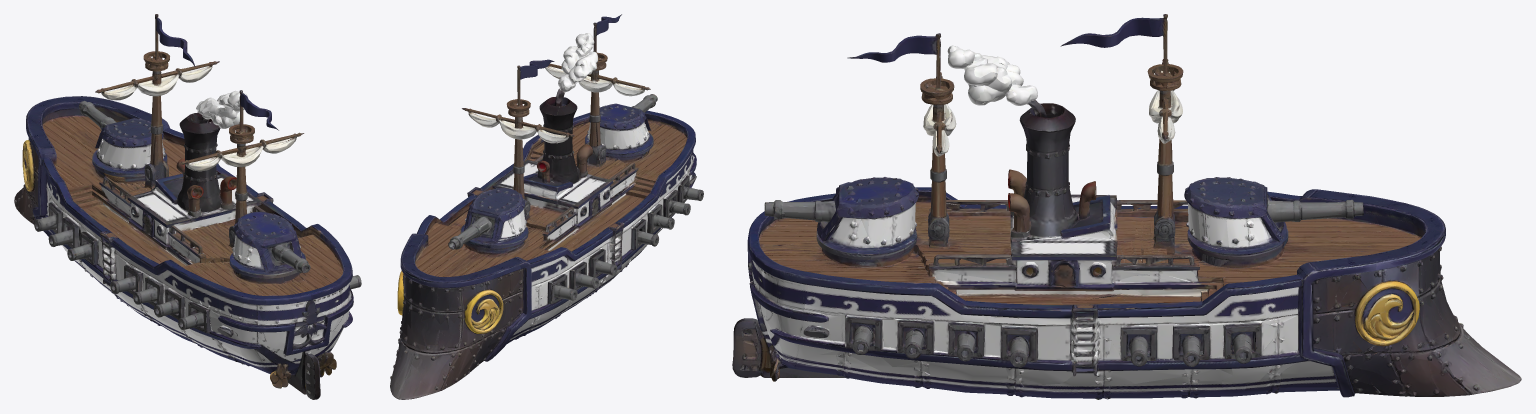
The model's file is dreadnought.glb.
3 views of the same model, side by side, from view 1: azimuth 30°, elevation 25°; view 2: azimuth 150°, elevation 25°; view 3: azimuth 270°, elevation 25° (orthographic). The views are drawn at different scales.
Bounding box in the file's own units: 34.76 × 46.13 × 90.
Materials: 1 (1 with a texture image).
